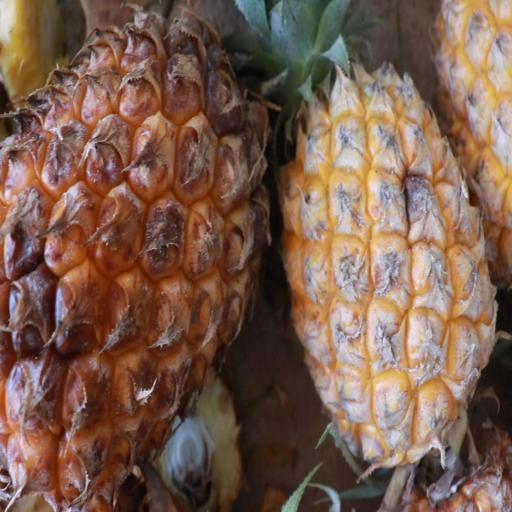Pineapple - v8 v1: (0, 0, 280, 512), (277, 10, 499, 488)
